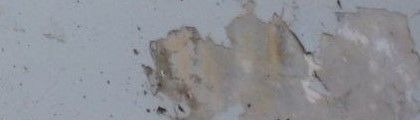Spalling: (140, 1, 420, 120)
